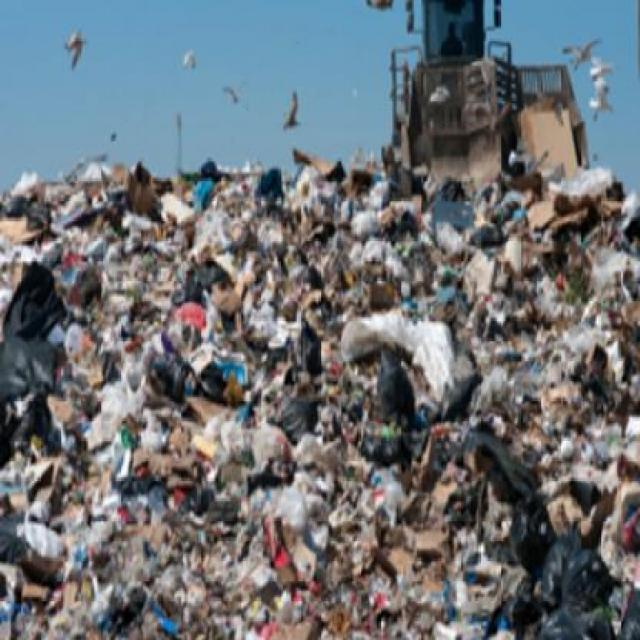garbage: (8, 179, 626, 613)
